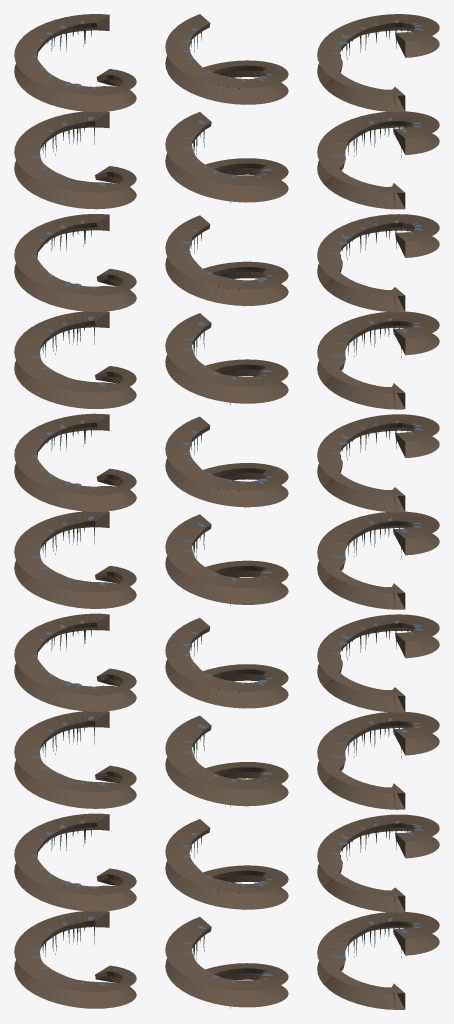
The picture shows the model from 3 angles, left to right: view 1: azimuth 90°, elevation 25°; view 2: azimuth 150°, elevation 25°; view 3: azimuth 330°, elevation 25°; orthographic projection.
Visible parts, largest first — view 1: Circle3; view 2: Circle3; view 3: Circle3.
Part boxes in pixels (<box>): Circle3: <box>14,14,136,1008</box>; Circle3: <box>165,14,288,1008</box>; Circle3: <box>317,14,439,1009</box>.
Bounding box in the file's own units: 38.86 × 339 × 38.86.
1 material, 1 textured.
